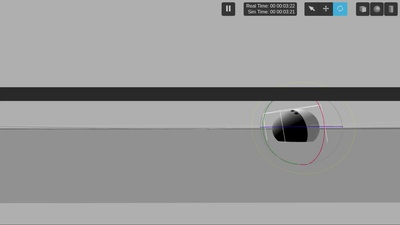mira_robot: (271, 107, 322, 143)
